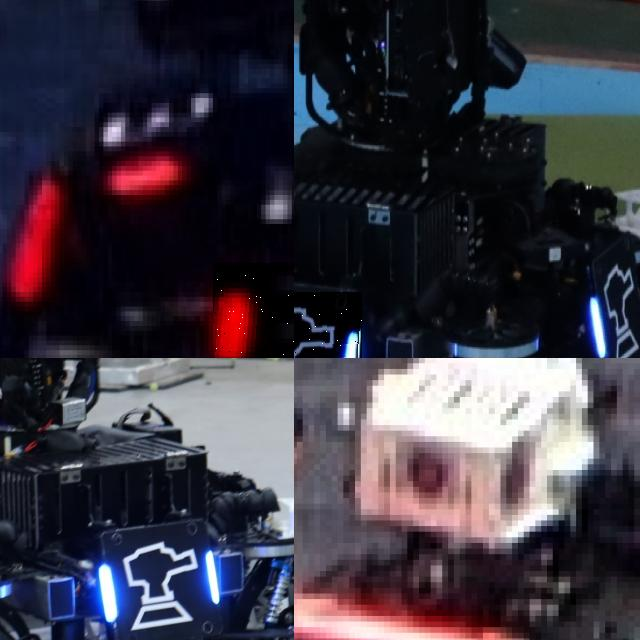Bs: (94, 521, 225, 640), (586, 254, 640, 358), (294, 292, 362, 358)
R3: (212, 263, 294, 358)
